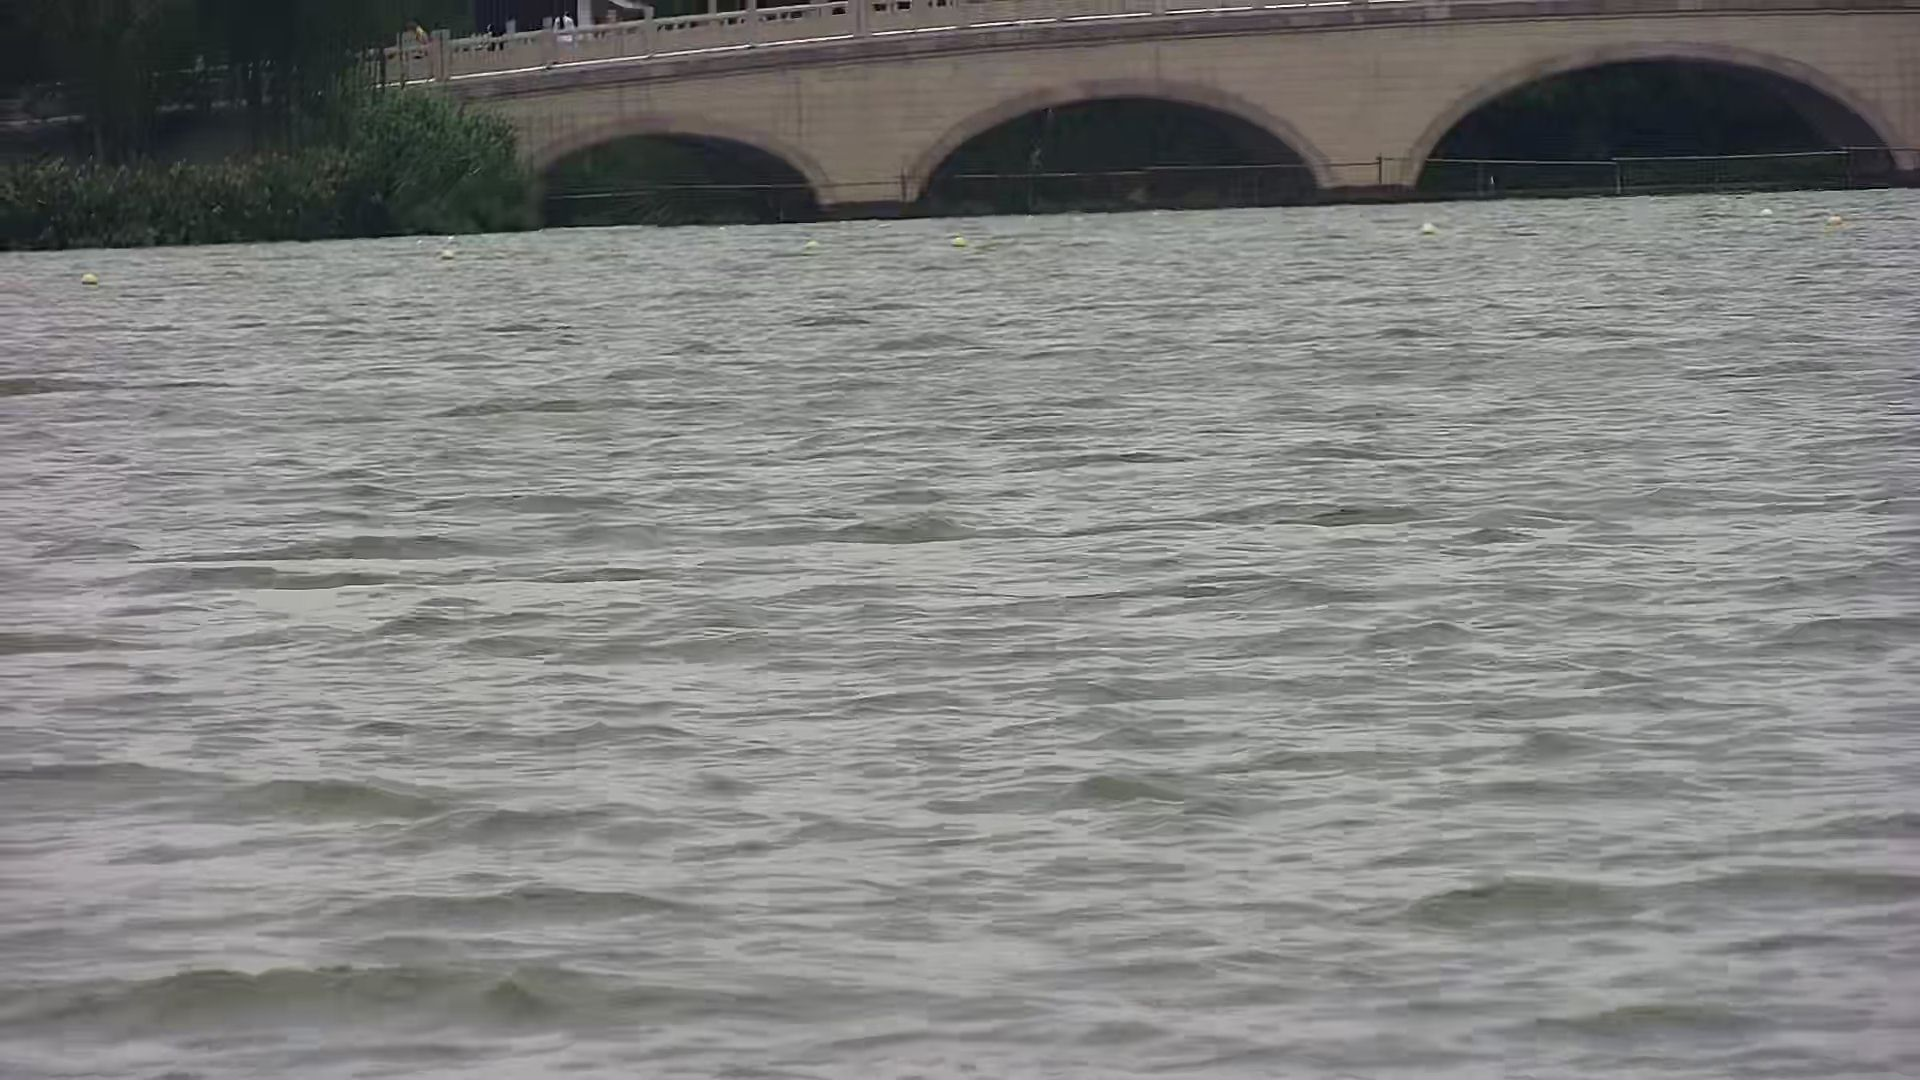bridge: (363, 7, 1920, 191)
